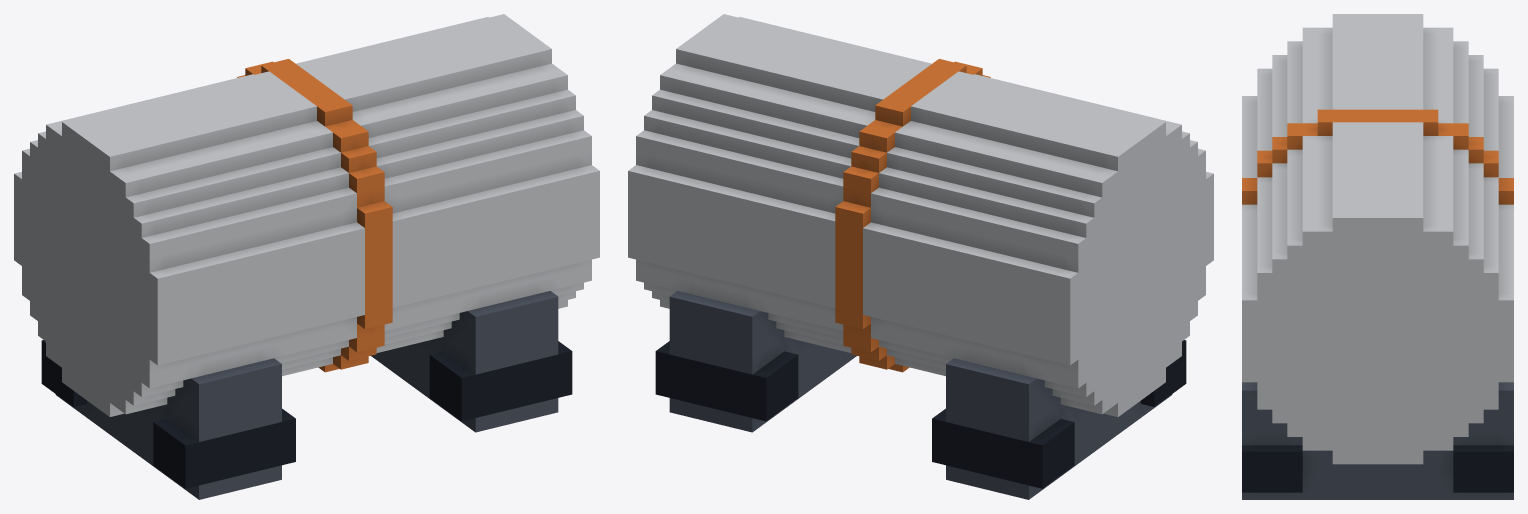
Rendered from tank_m.glb.
The picture shows the model from 3 angles, left to right: view 1: azimuth 30°, elevation 25°; view 2: azimuth 150°, elevation 25°; view 3: azimuth 270°, elevation 25°; orthographic projection. The views are drawn at different scales.
Visible parts, largest first — view 1: Base; view 2: Base; view 3: Base.
Boxes of the visible parts, x1,y1,x2,y2 form: Base: (14,14,599,499); Base: (628,14,1213,499); Base: (1242,14,1513,499).
Size of the model in its own units: 3.2 by 2.2 by 1.8.
